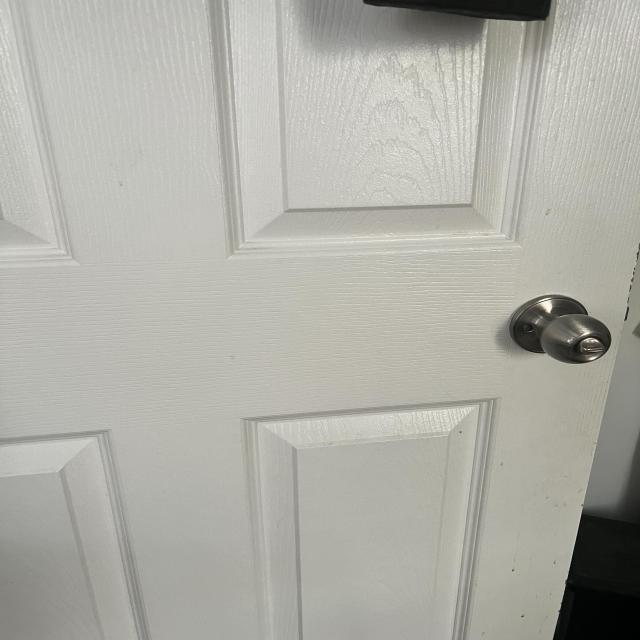door-knob: (508, 295, 612, 364)
